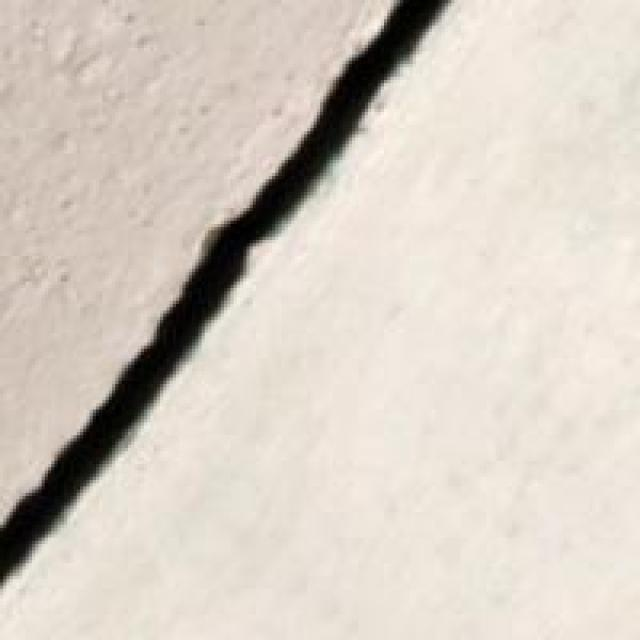Crack: (0, 0, 470, 592)
